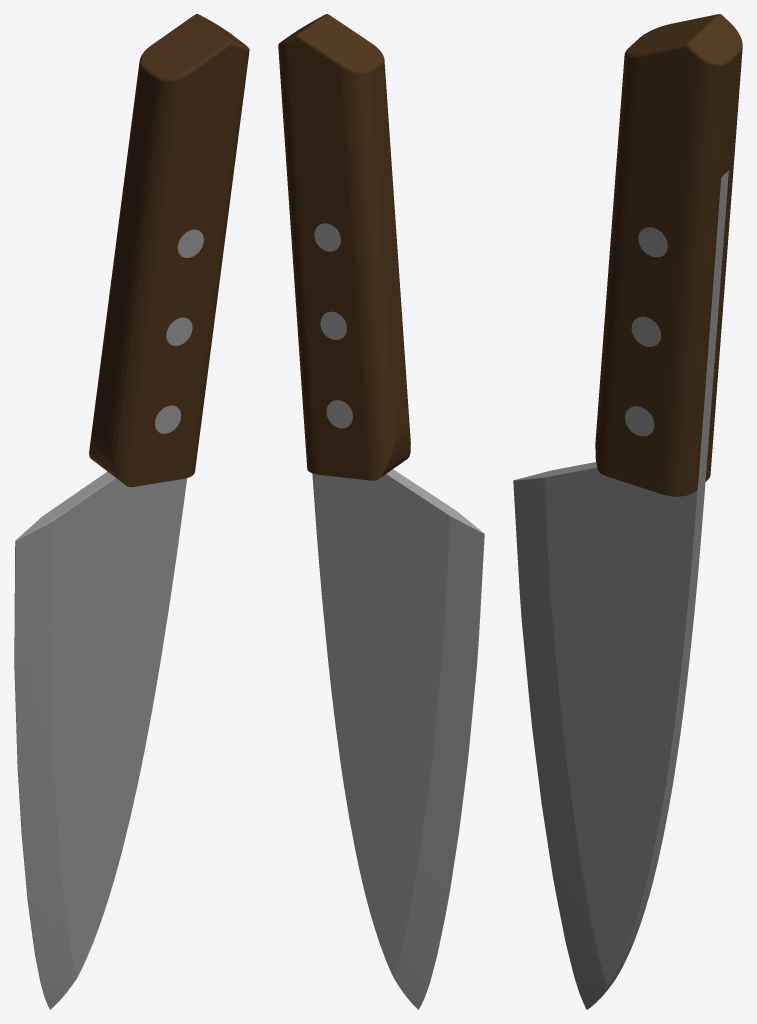
The model's file is knife.fbx.
3 views of the same model, side by side, from view 1: azimuth 30°, elevation 25°; view 2: azimuth 150°, elevation 25°; view 3: azimuth 330°, elevation 25° (orthographic). The views are drawn at different scales.
Visible parts, largest first — view 1: knife; view 2: knife; view 3: knife.
Part boxes in pixels (x1=…): knife: x1=14, y1=14, x2=249, y2=1009; knife: x1=278, y1=14, x2=484, y2=1009; knife: x1=513, y1=14, x2=742, y2=1009.
Bounding box in the file's own units: 8.22 × 35.43 × 3.21.
